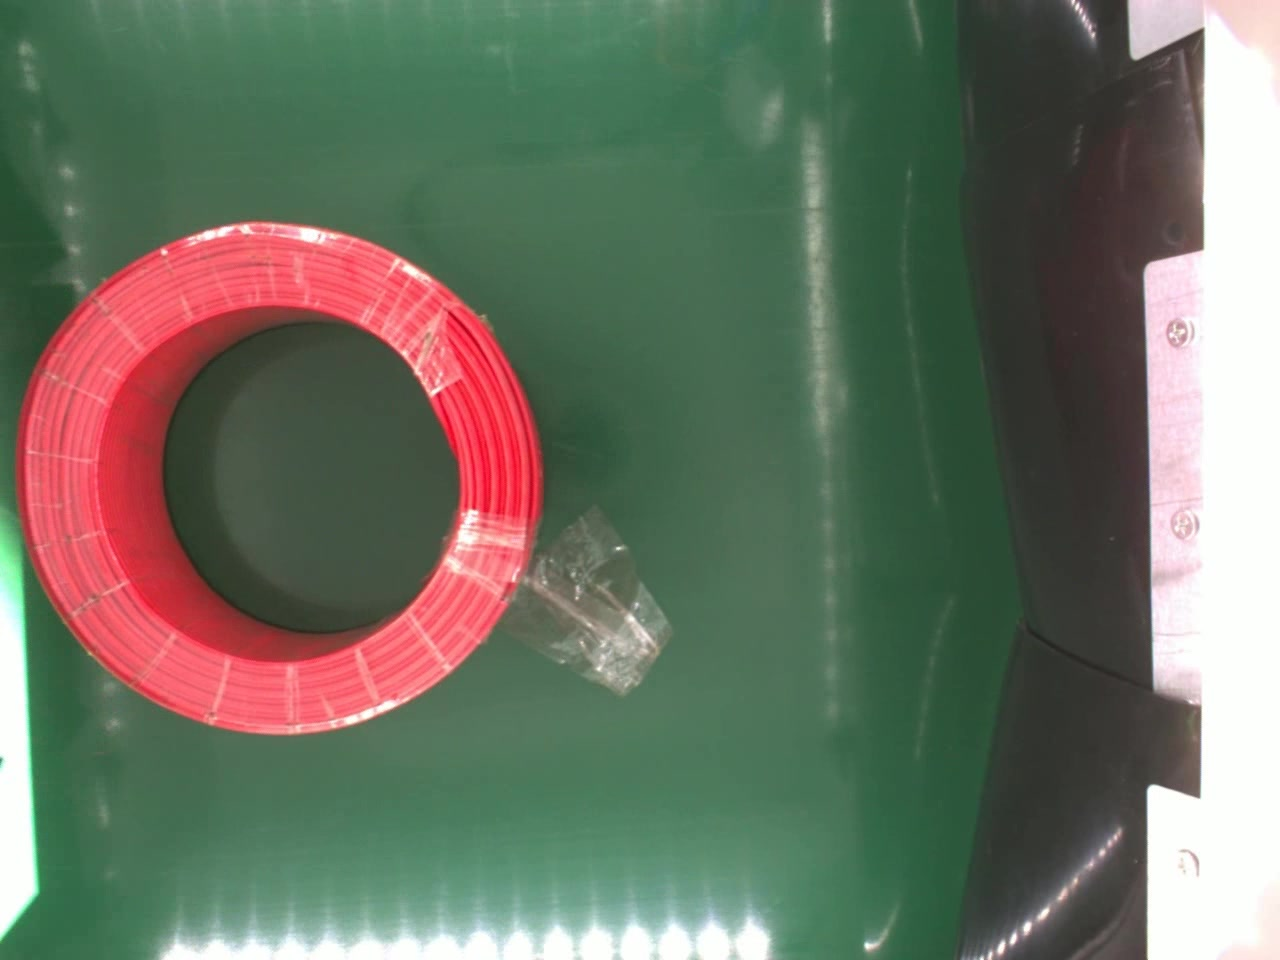red: (15, 223, 542, 737)
